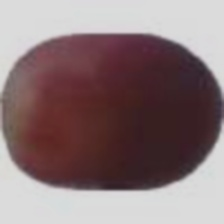grapes: (32, 24, 195, 184)
